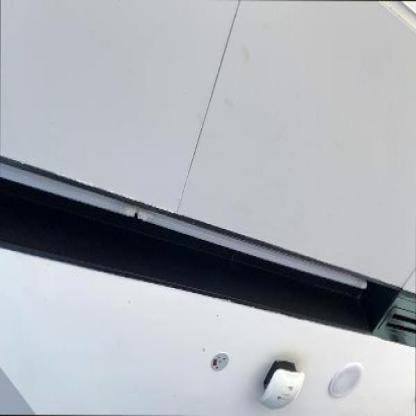light_off: (0, 130, 375, 315)
